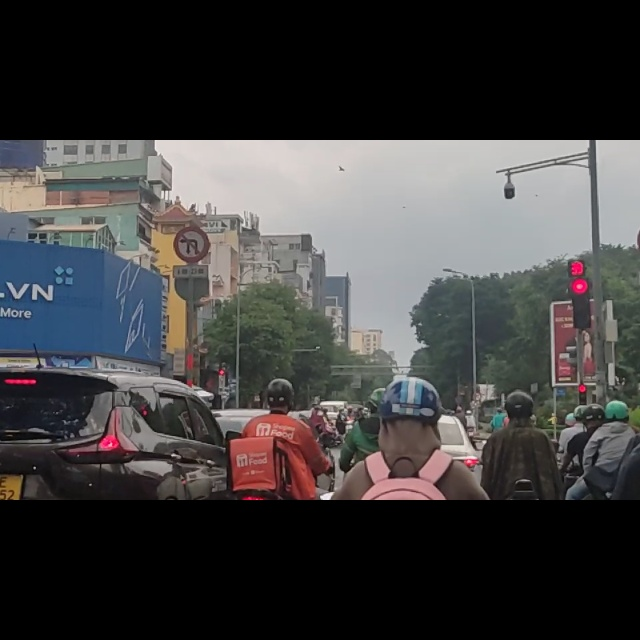bien_cam: (173, 151, 210, 219)
